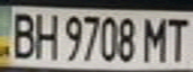0: (100, 12, 121, 63)
7: (78, 11, 103, 62)
8: (115, 14, 142, 63)
9: (60, 11, 84, 62)
B: (6, 9, 39, 61)
H: (30, 9, 60, 61)
M: (139, 14, 172, 63)
T: (163, 14, 193, 62)
